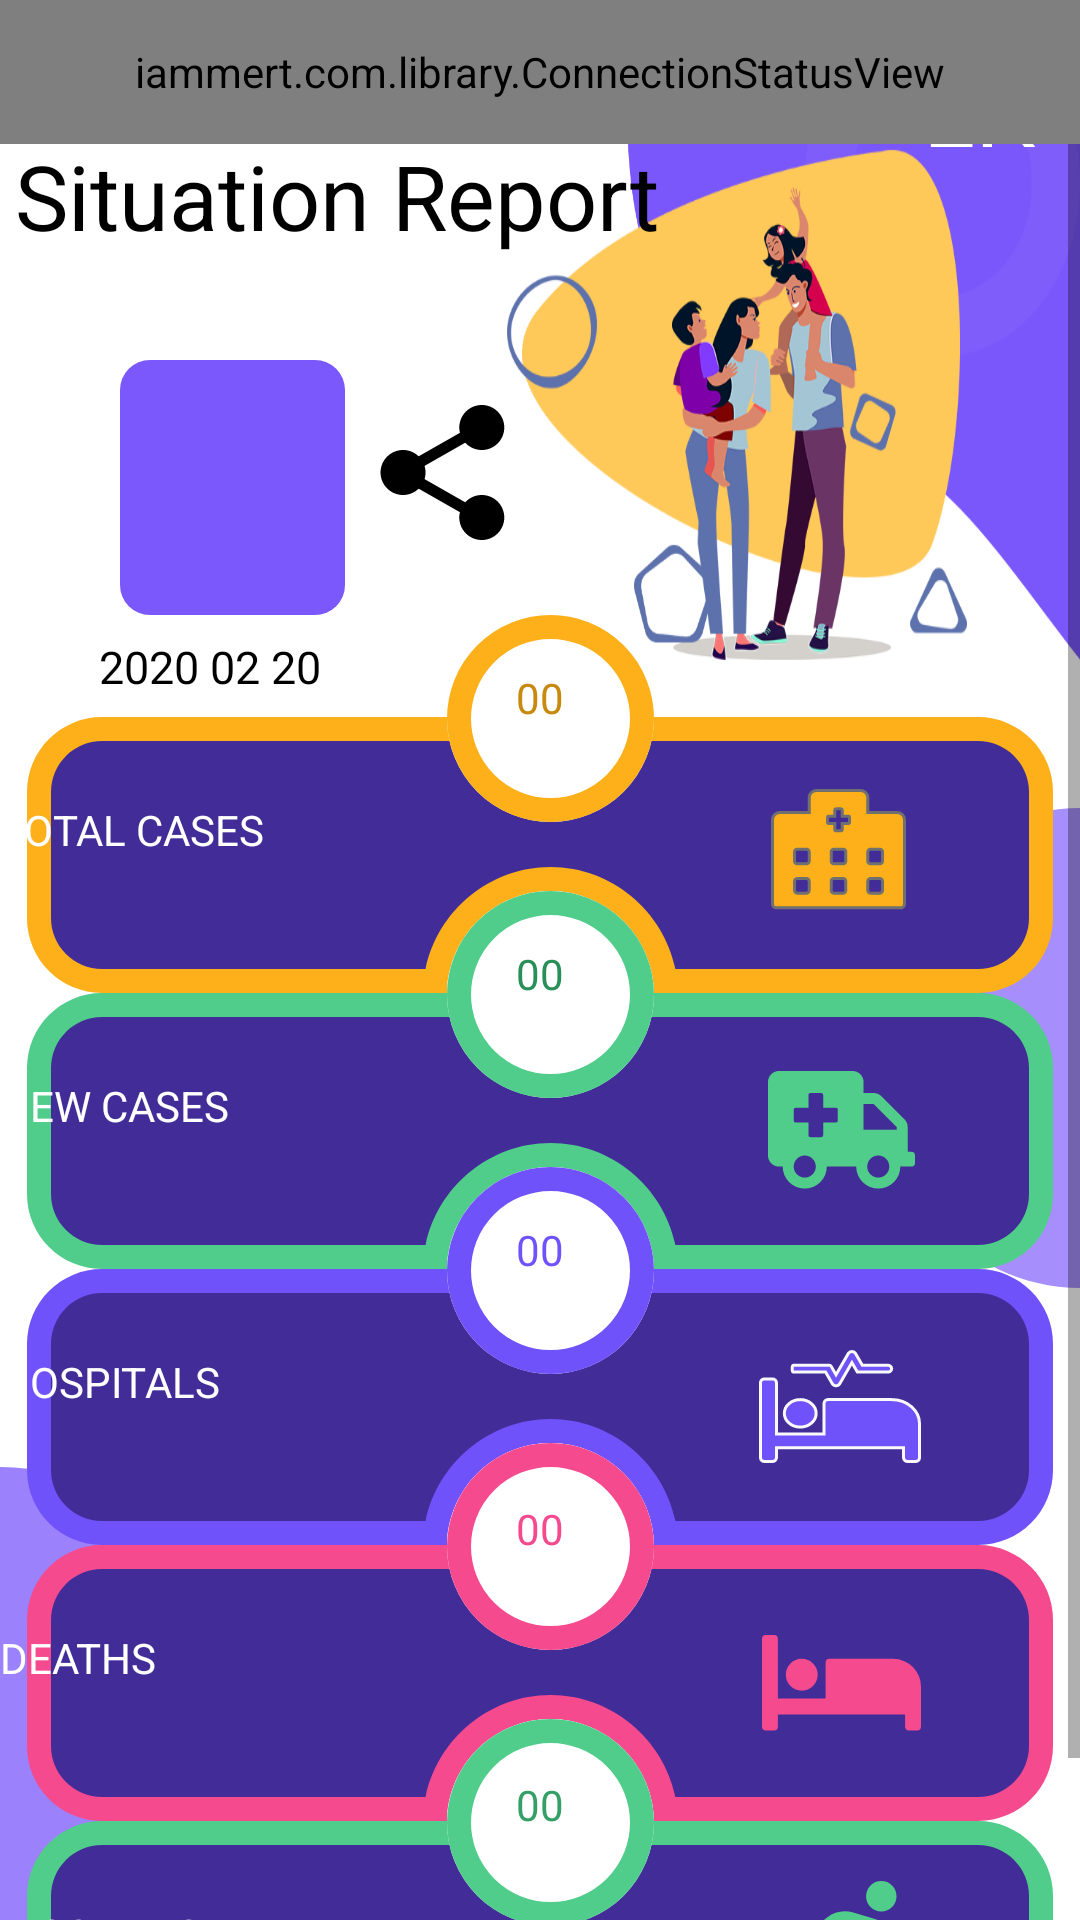

Where to tap for icons on this 1080*1920 app screen, as [x,y]:
share: [442,472]
